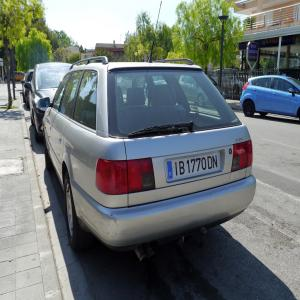Vehicle-registration-plate: (167, 154, 221, 183)
